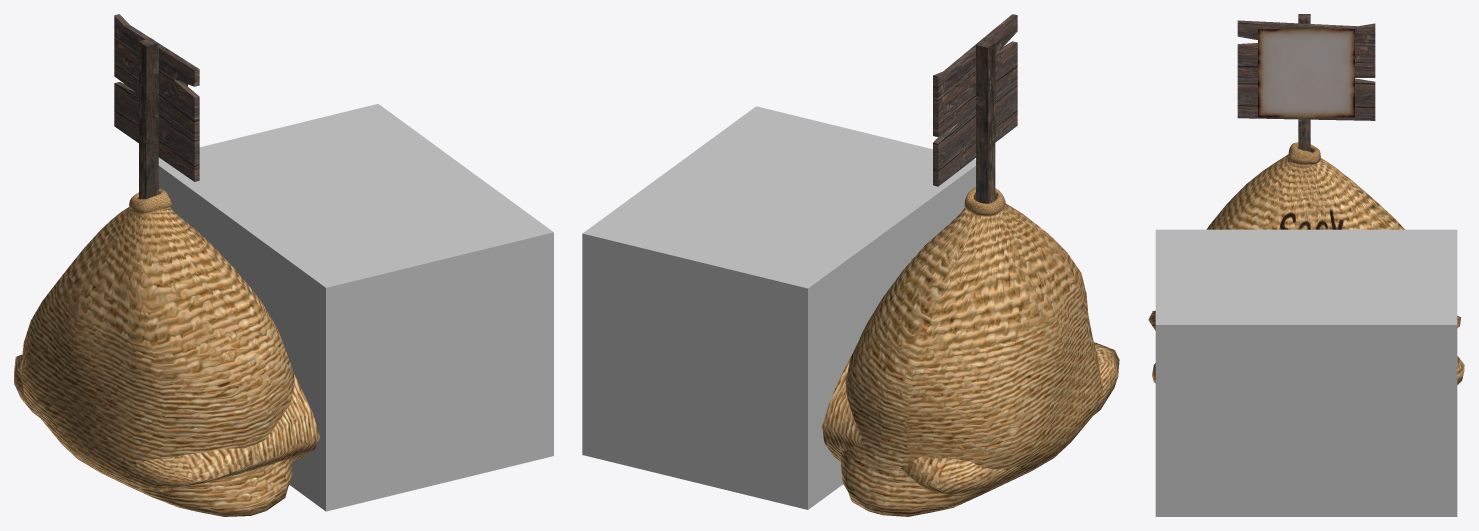
The model's file is sack_o_seeds.obj.
3 views of the same model, side by side, from view 1: azimuth 30°, elevation 25°; view 2: azimuth 150°, elevation 25°; view 3: azimuth 270°, elevation 25° (orthographic). The views are drawn at different scales.
Visible parts, largest first — view 1: PHYS_0_Trigger, STATE_1_Full, Sign_Post, STATE_0_Empty; view 2: PHYS_0_Trigger, STATE_1_Full, Sign_Post, STATE_0_Empty; view 3: PHYS_0_Trigger, Sign_Post, STATE_1_Full.
Boxes of the visible parts, x1,y1,x2,y2 form: PHYS_0_Trigger: [158, 104, 553, 511]; STATE_1_Full: [21, 188, 294, 516]; Sign_Post: [114, 14, 199, 199]; STATE_0_Empty: [14, 354, 319, 492]; PHYS_0_Trigger: [582, 106, 975, 509]; STATE_1_Full: [840, 187, 1102, 516]; Sign_Post: [933, 14, 1017, 203]; STATE_0_Empty: [822, 342, 1119, 494]; PHYS_0_Trigger: [1155, 229, 1457, 516]; Sign_Post: [1237, 14, 1375, 151]; STATE_1_Full: [1152, 142, 1464, 384].
Bounding box in the file's own units: 1.77 × 1.81 × 1.41.
Materials: 4 (3 with a texture image).
